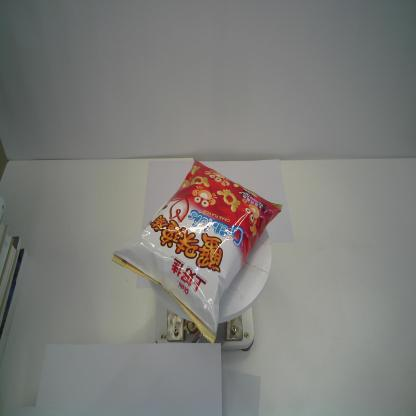Puffed Food: (110, 155, 286, 348)
